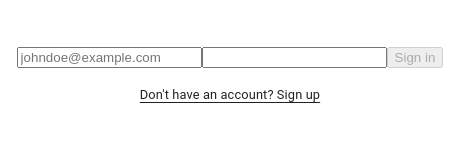
AuthPage › shows 403-specific message
Type "test@example.com" into the field with placeholder "johndoe@example.com" at (109, 57), box [17,46,202,68]
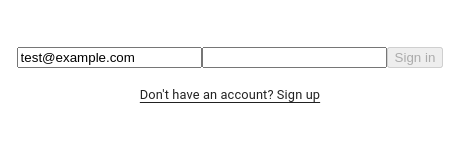
Type "password123" into the password field named "Password" at (294, 57), box [202,46,387,68]
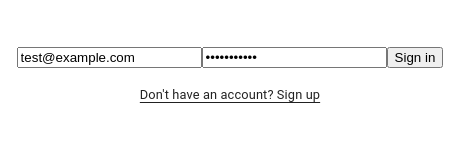
Click the button "Sign in" at (415, 57), box [387,46,443,68]
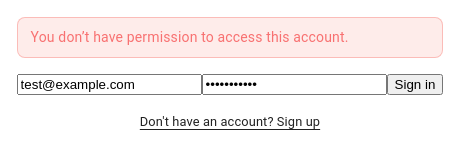
Result: the text "You don’t have permission to access this account." is shown at [17,17,443,58]
